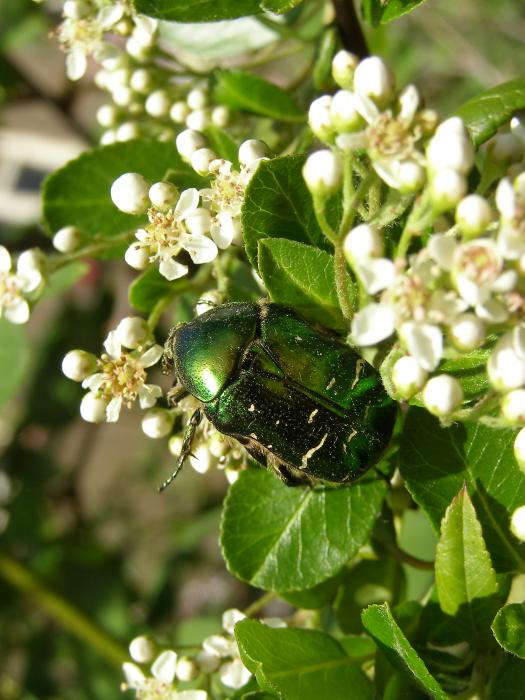Cetonia_aurata: (150, 293, 407, 515)
